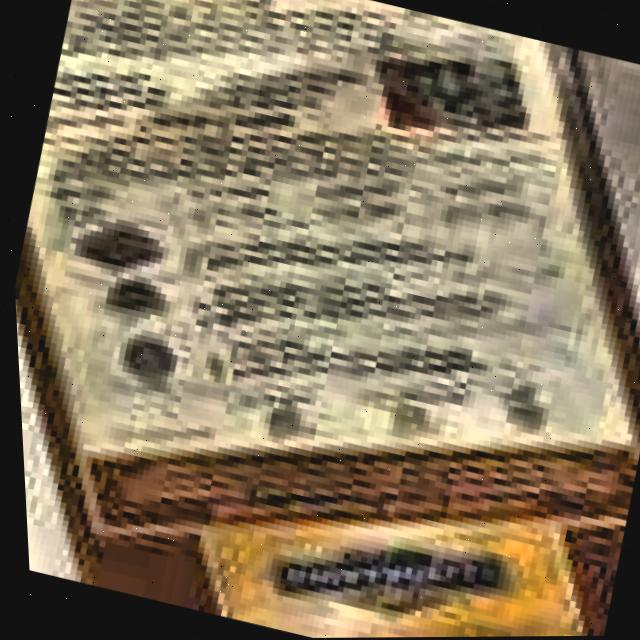paper: (11, 0, 640, 638)
